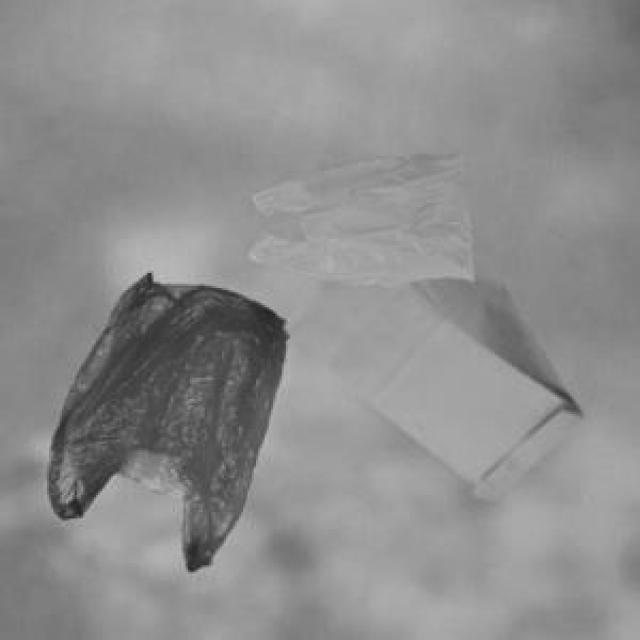paper: (282, 238, 578, 493)
